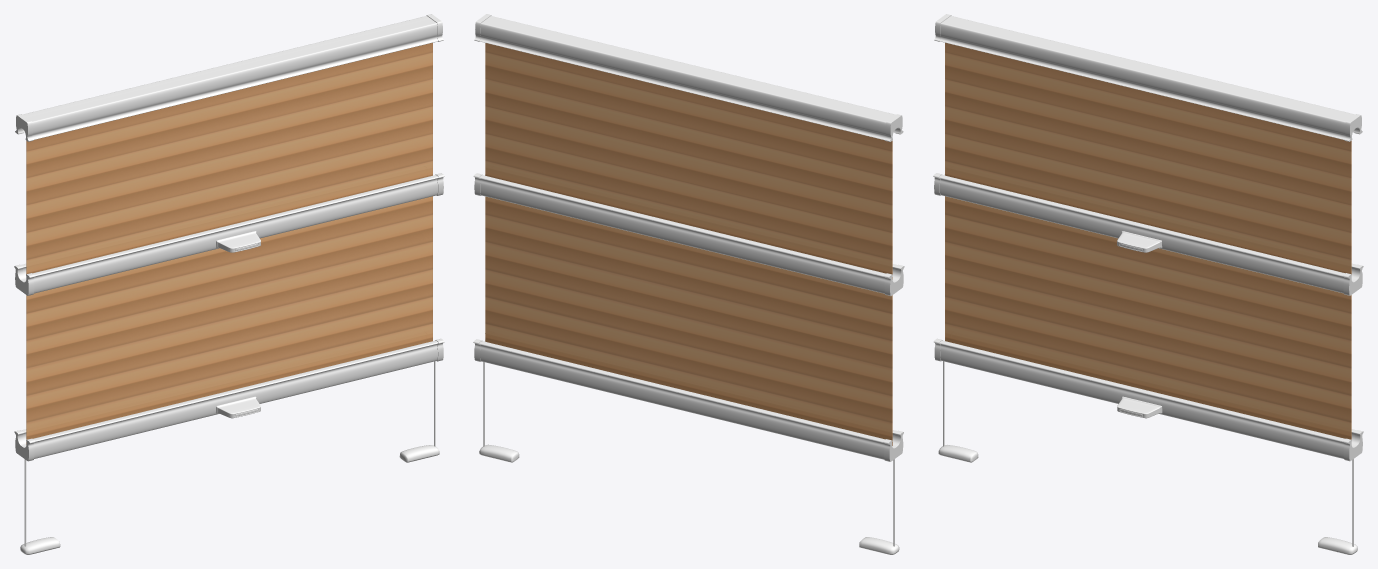
3 renders of one model, left to right at view 1: azimuth 30°, elevation 25°; view 2: azimuth 150°, elevation 25°; view 3: azimuth 330°, elevation 25°, orthographic.
Visible parts, largest first — view 1: Plane.001, Plane, BezierCurve.029, BezierCurve.005, BezierCurve.013, Halterung, Halterung.001; view 2: Plane.001, Plane, BezierCurve.029, BezierCurve.013, BezierCurve.005; view 3: Plane.001, Plane, BezierCurve.029, BezierCurve.005, BezierCurve.013, Halterung, Halterung.001.
Boxes of the visible parts, <box> form: Plane.001: <box>26,196,432,444</box>; Plane: <box>26,43,432,274</box>; BezierCurve.029: <box>23,16,438,139</box>; BezierCurve.005: <box>21,340,438,458</box>; BezierCurve.013: <box>21,175,438,293</box>; Halterung: <box>216,396,260,418</box>; Halterung.001: <box>216,231,260,252</box>; Plane.001: <box>485,196,892,445</box>; Plane: <box>485,43,892,278</box>; BezierCurve.029: <box>479,16,895,140</box>; BezierCurve.013: <box>479,175,897,293</box>; BezierCurve.005: <box>479,341,896,459</box>; Plane.001: <box>945,196,1351,439</box>; Plane: <box>945,42,1351,274</box>; BezierCurve.029: <box>939,16,1354,139</box>; BezierCurve.005: <box>939,340,1356,458</box>; BezierCurve.013: <box>939,175,1356,293</box>; Halterung: <box>1117,396,1162,418</box>; Halterung.001: <box>1117,231,1162,252</box>.
Size of the model in its own units: 1.2 by 1.2 by 0.1269.
Materials: 3 (2 with a texture image).
